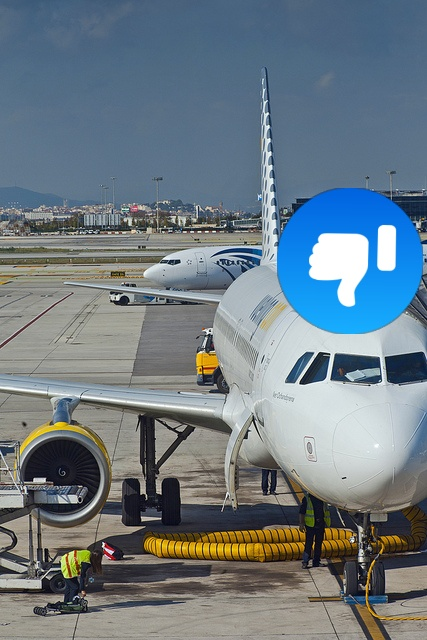like: (277, 188, 423, 334)
